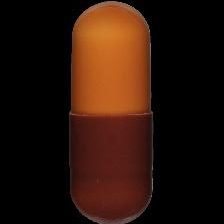21695-692: (0, 0, 224, 224)
